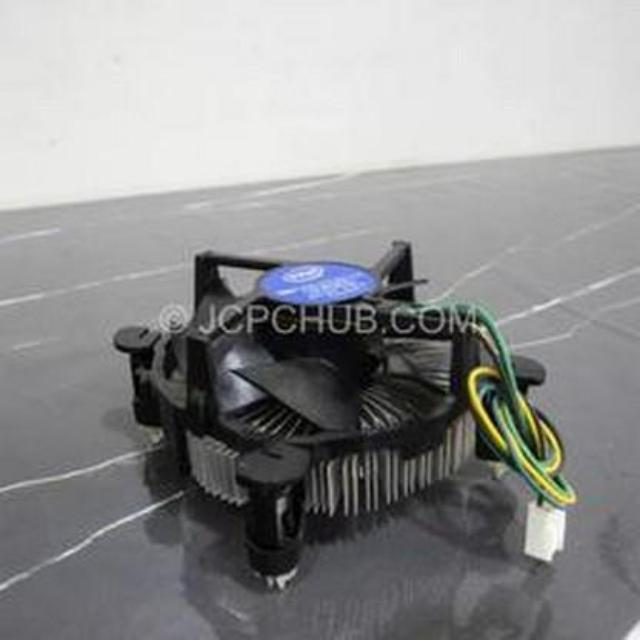CPU_Fan: (118, 236, 550, 599)
